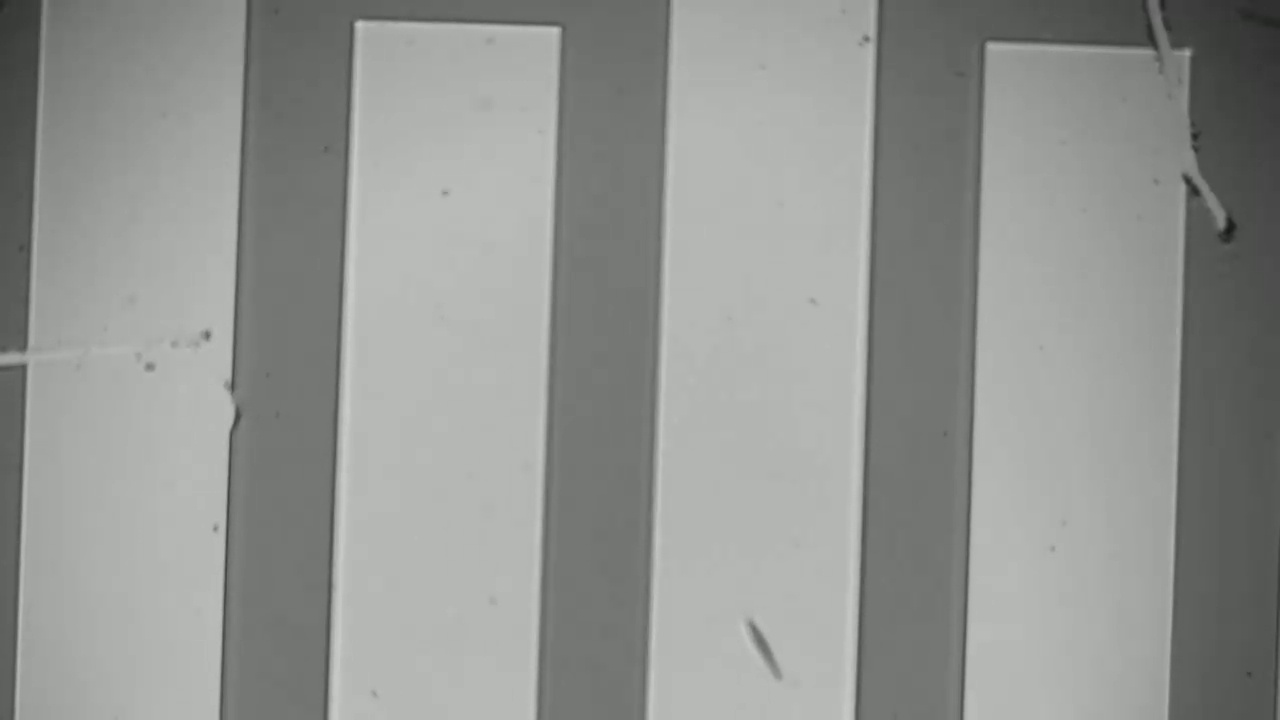Short_circuit: (1130, 1, 1180, 85)
